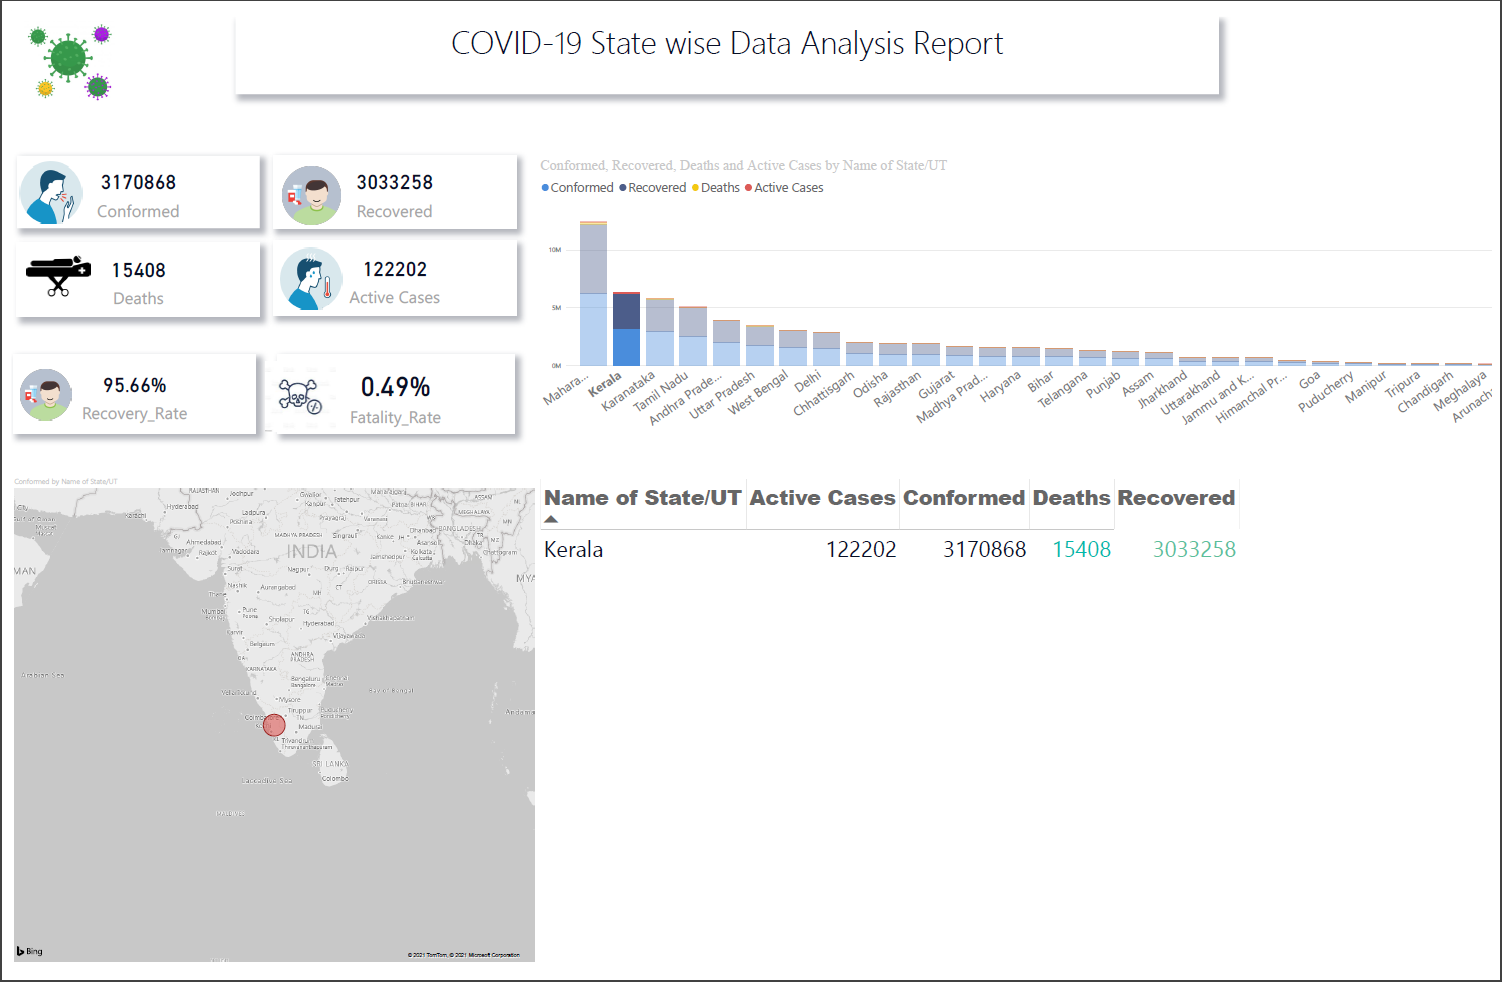

Layout of this report page (visuals, bound fields, positions):
{"tool":"powerbi","page":{"name":"Main_Dashboard","canvas":[2500,1600],"ordinal":0},"visuals":[{"type":"card","fields":{"Values":["COVID-19 INDIA .Recovery_Rate"]},"box":[2.5,572.2,410.1,132.6],"z":0},{"type":"card","fields":{"Values":["Sum(COVID-19 INDIA .Total_Cases_Conformed)"]},"box":[9.8,233.3,410.1,122.8],"z":1000},{"type":"image","box":[9.8,0,176.8,162.1],"z":2000},{"type":"card","fields":{"Values":["Sum(COVID-19 INDIA .Recovered)"]},"box":[442,233.3,410.1,122.8],"z":3000},{"type":"card","fields":{"Values":["Sum(COVID-19 INDIA .Deaths)"]},"box":[9.8,380.6,410.1,125.2],"z":4000},{"type":"image","box":[449.4,248,115.4,108],"z":5000},{"type":"image","box":[9.8,378.2,140,117.9],"z":6000},{"type":"textbox","box":[378.4,0,1660.9,131.5],"z":7000},{"type":"card","fields":{"Values":["COVID-19 INDIA .fatality_Rate"]},"box":[449.4,572.2,400.3,132.6],"z":8000},{"type":"card","fields":{"Values":["Sum(COVID-19 INDIA .Active Cases)"]},"box":[442,378.2,410.1,125.2],"z":9000},{"type":"image","box":[449.4,378.2,115.4,125.2],"z":10000},{"type":"image","box":[9.8,233.3,115.4,122.8],"z":11000},{"type":"image","box":[9.8,589.4,98.2,95.8],"z":12000},{"type":"image","box":[415,577.1,149.8,127.7],"z":13000},{"type":"columnChart","fields":{"Category":["COVID-19 INDIA .Name of State/UT"],"Y":["Sum(COVID-19 INDIA .Conformed)","Sum(COVID-19 INDIA .Recovered)","Sum(COVID-19 INDIA .Deaths)","Sum(COVID-19 INDIA .Active Cases)"]},"box":[888.6,236.4,2111.4,468.8],"z":14000},{"type":"tableEx","fields":{"Values":["COVID-19 INDIA .Name of State/UT","Sum(COVID-19 INDIA .Active Cases)","Sum(COVID-19 INDIA .Conformed)","Sum(COVID-19 INDIA .Deaths)","Sum(COVID-19 INDIA .Recovered)"]},"box":[888.2,776,1612.8,824],"z":14001},{"type":"map","fields":{"Category":["COVID-19 INDIA .Name of State/UT"],"Size":["Sum(COVID-19 INDIA .Conformed)"]},"box":[0,776,888.2,824],"z":14002}]}

Visuals, with their boxes in screenshot pixels (x1, y1, x2, y2), scaled from the page's 2500x1600 canvas onto the 1502x982 screenshot:
card - COVID-19 INDIA .Recovery_Rate: select_region(2, 351, 248, 433)
card - Sum(COVID-19 INDIA .Total_Cases_Conformed): select_region(6, 143, 252, 219)
image: select_region(6, 0, 112, 99)
card - Sum(COVID-19 INDIA .Recovered): select_region(266, 143, 512, 219)
card - Sum(COVID-19 INDIA .Deaths): select_region(6, 234, 252, 310)
image: select_region(270, 152, 339, 218)
image: select_region(6, 232, 90, 304)
textbox: select_region(227, 0, 1225, 81)
card - COVID-19 INDIA .fatality_Rate: select_region(270, 351, 510, 433)
card - Sum(COVID-19 INDIA .Active Cases): select_region(266, 232, 512, 309)
image: select_region(270, 232, 339, 309)
image: select_region(6, 143, 75, 219)
image: select_region(6, 362, 65, 421)
image: select_region(249, 354, 339, 433)
columnChart - COVID-19 INDIA .Name of State/UT x Sum(COVID-19 INDIA .Conformed): select_region(534, 145, 1501, 433)
tableEx - COVID-19 INDIA .Name of State/UT x Sum(COVID-19 INDIA .Active Cases): select_region(534, 476, 1501, 981)
map - COVID-19 INDIA .Name of State/UT x Sum(COVID-19 INDIA .Conformed): select_region(0, 476, 534, 981)
